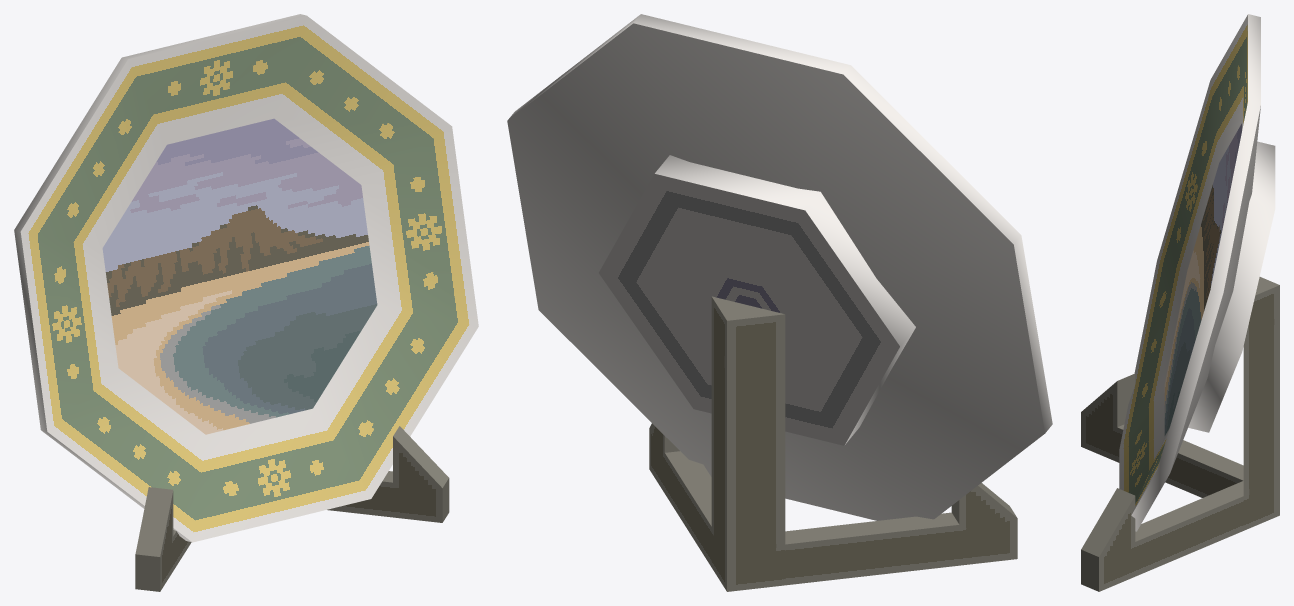
File: 0169_Novelty_Plate.glb
3 views of the same model, side by side, from view 1: azimuth 30°, elevation 25°; view 2: azimuth 150°, elevation 25°; view 3: azimuth 270°, elevation 25° (orthographic). The views are drawn at different scales.
Parts seen in each view (by area): view 1: part_0; view 2: part_0; view 3: part_0.
Part boxes in pixels (bbox=[...]): part_0: bbox=[14, 14, 478, 591]; part_0: bbox=[507, 14, 1052, 591]; part_0: bbox=[1081, 14, 1279, 591].
Bounding box in the file's own units: 0.1848 × 0.1878 × 0.0739.
Materials: 1 (1 with a texture image).
